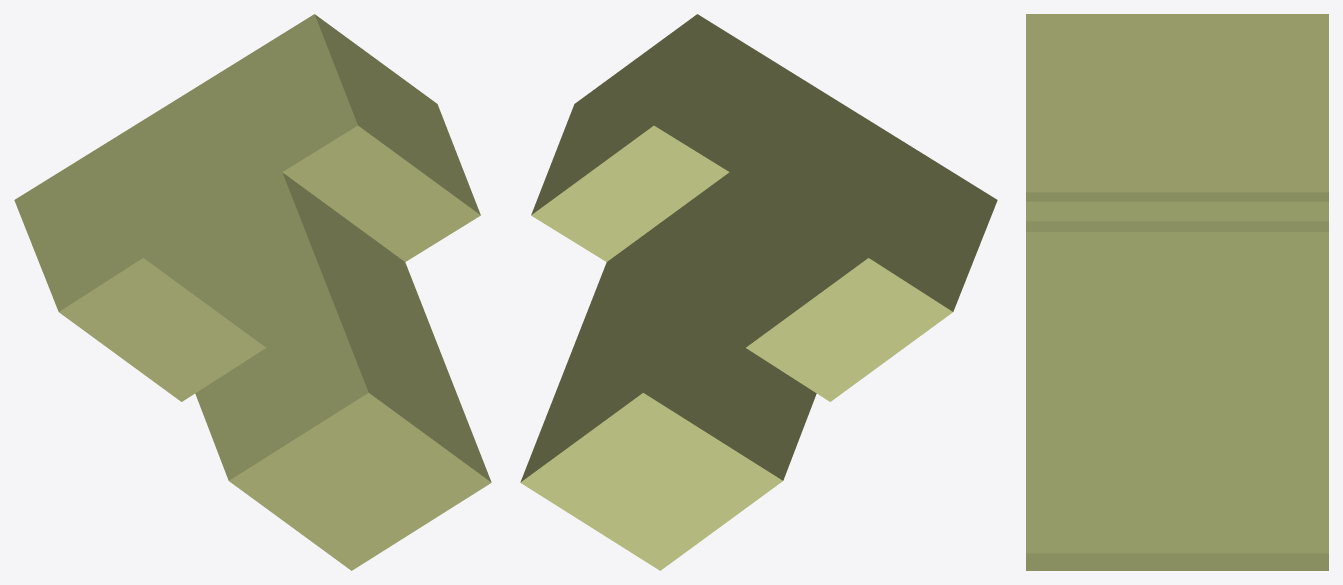
The picture shows the model from 3 angles, left to right: view 1: azimuth 30°, elevation 25°; view 2: azimuth 150°, elevation 25°; view 3: azimuth 270°, elevation 25°; orthographic projection. The views are drawn at different scales.
Visible parts, largest first — view 1: 0_1_3_2_1_1_2_1_1_0; view 2: 0_1_3_2_1_1_2_1_1_0; view 3: 0_1_3_2_1_1_2_1_1_0.
Part boxes in pixels (x1,y1,x2,y2): 0_1_3_2_1_1_2_1_1_0: (14, 14, 491, 570); 0_1_3_2_1_1_2_1_1_0: (520, 14, 997, 570); 0_1_3_2_1_1_2_1_1_0: (1026, 14, 1328, 570).
Size of the model in its own units: 9.98 by 12 by 6.
